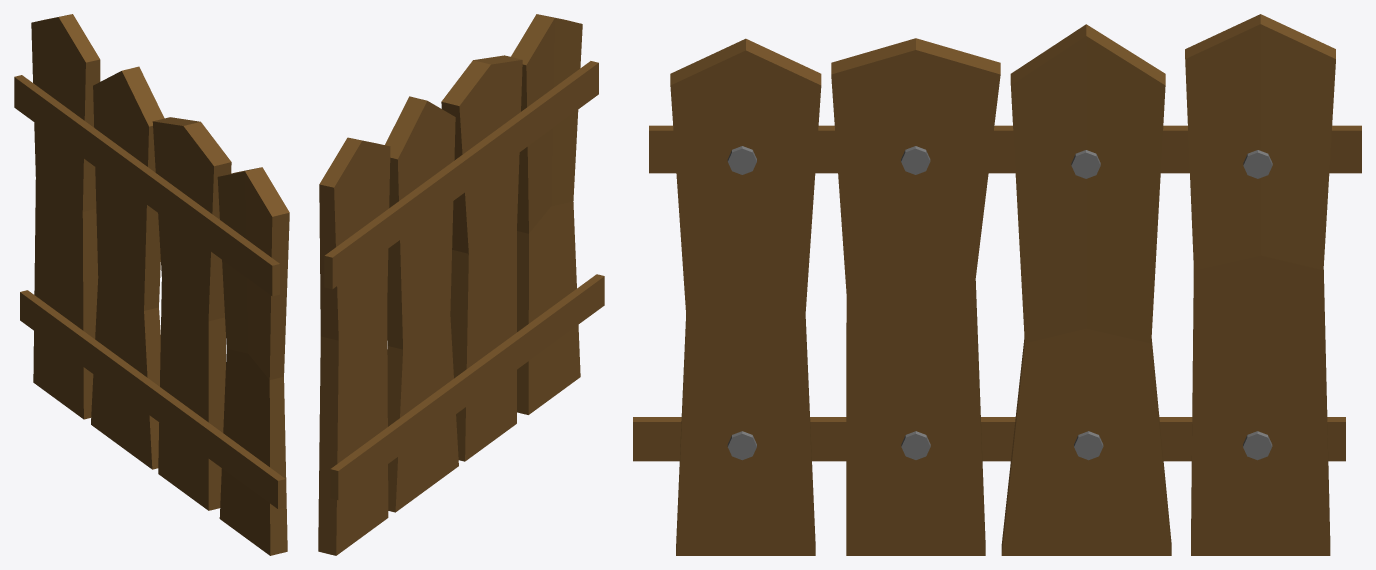
The model's file is fence.fbx.
3 views of the same model, side by side, from view 1: azimuth 30°, elevation 25°; view 2: azimuth 150°, elevation 25°; view 3: azimuth 270°, elevation 25° (orthographic). The views are drawn at different scales.
Parts seen in each view (by area): view 1: Cube; view 2: Cube; view 3: Cube.
Part boxes in pixels (x1,y1,x2,y2): Cube: (14, 14, 289, 555); Cube: (318, 14, 604, 555); Cube: (633, 14, 1361, 555).
Bounding box in the file's own units: 7.59 × 94.84 × 118.
